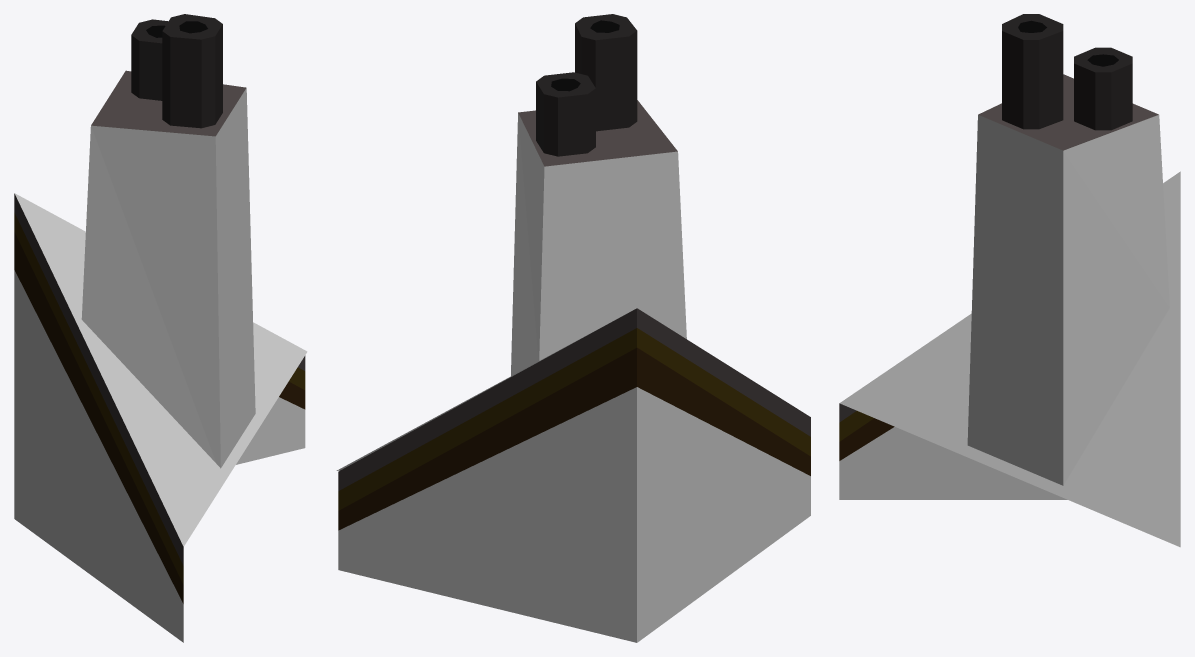
File: model_loc_1632_s.obj
The picture shows the model from 3 angles, left to right: view 1: azimuth 30°, elevation 25°; view 2: azimuth 150°, elevation 25°; view 3: azimuth 270°, elevation 25°; orthographic projection. The views are drawn at different scales.
Visible parts, largest first — view 1: 631; view 2: 631; view 3: 631.
Part boxes in pixels (x1,y1,x2,y2): 631: (14,14,307,642); 631: (336,14,810,642); 631: (839,14,1180,547).
Size of the model in its own units: 128 by 217 by 128.
